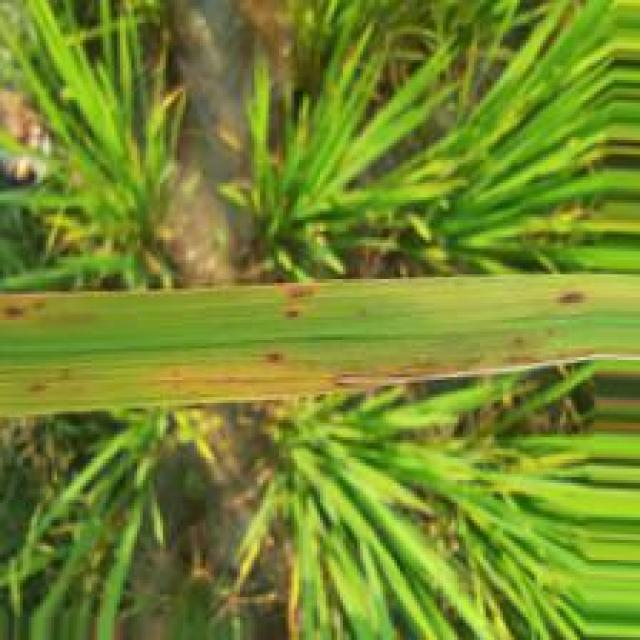Brown_Spot: (322, 364, 465, 390), (277, 283, 319, 320), (497, 352, 553, 370), (548, 287, 589, 307), (1, 301, 29, 323), (262, 350, 286, 367), (505, 334, 530, 349), (23, 382, 47, 395)
